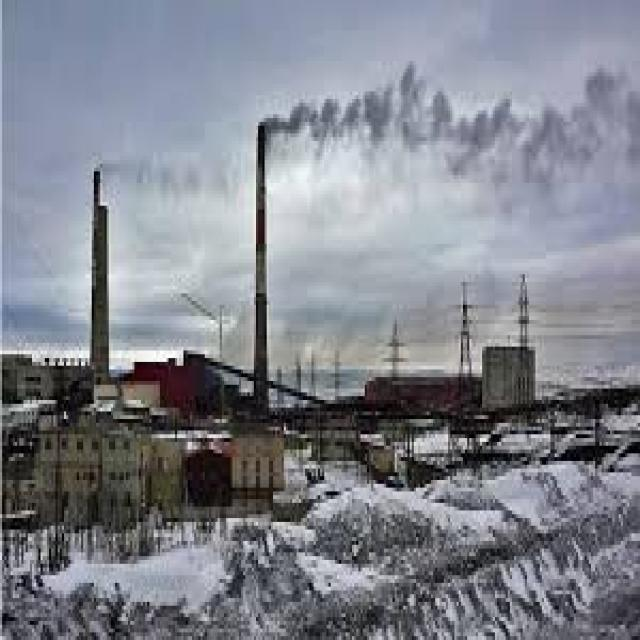Smoke: (265, 59, 640, 182), (94, 155, 228, 203)
